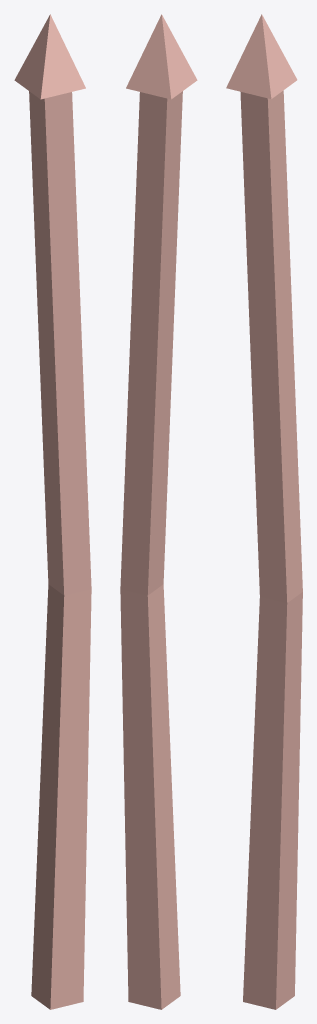
File: Mega_Asset_s_Pack_Cube_306.FBX
3 views of the same model, side by side, from view 1: azimuth 30°, elevation 25°; view 2: azimuth 150°, elevation 25°; view 3: azimuth 330°, elevation 25° (orthographic).
Parts seen in each view (by area): view 1: Mega_Asset_s_Pack_Cube_306; view 2: Mega_Asset_s_Pack_Cube_306; view 3: Mega_Asset_s_Pack_Cube_306.
Boxes of the visible parts, x1,y1,x2,y2 form: Mega_Asset_s_Pack_Cube_306: (14,14,91,1009); Mega_Asset_s_Pack_Cube_306: (120,14,197,1009); Mega_Asset_s_Pack_Cube_306: (226,14,302,1009).
Size of what is drawn, in the model's own units: 11.78 by 9.55 by 198.
